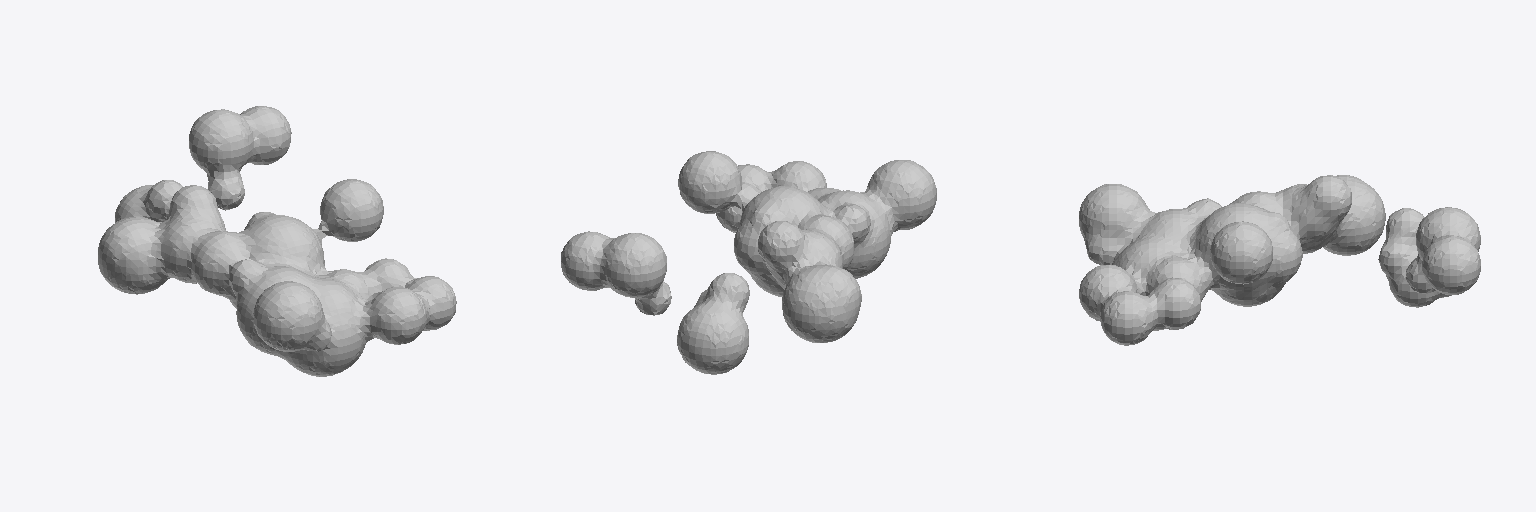
The model's file is cloud-a.obj.
The picture shows the model from 3 angles: view 1: azimuth 30°, elevation 25°; view 2: azimuth 150°, elevation 25°; view 3: azimuth 270°, elevation 25°; orthographic projection.
Visible parts, largest first — view 1: Cube; view 2: Cube; view 3: Cube.
Boxes of the visible parts, <box> form: Cube: <box>98,106,456,376</box>; Cube: <box>561,151,936,374</box>; Cube: <box>1079,175,1480,345</box>.
Bounding box in the file's own units: 5.28 × 2.94 × 7.64.